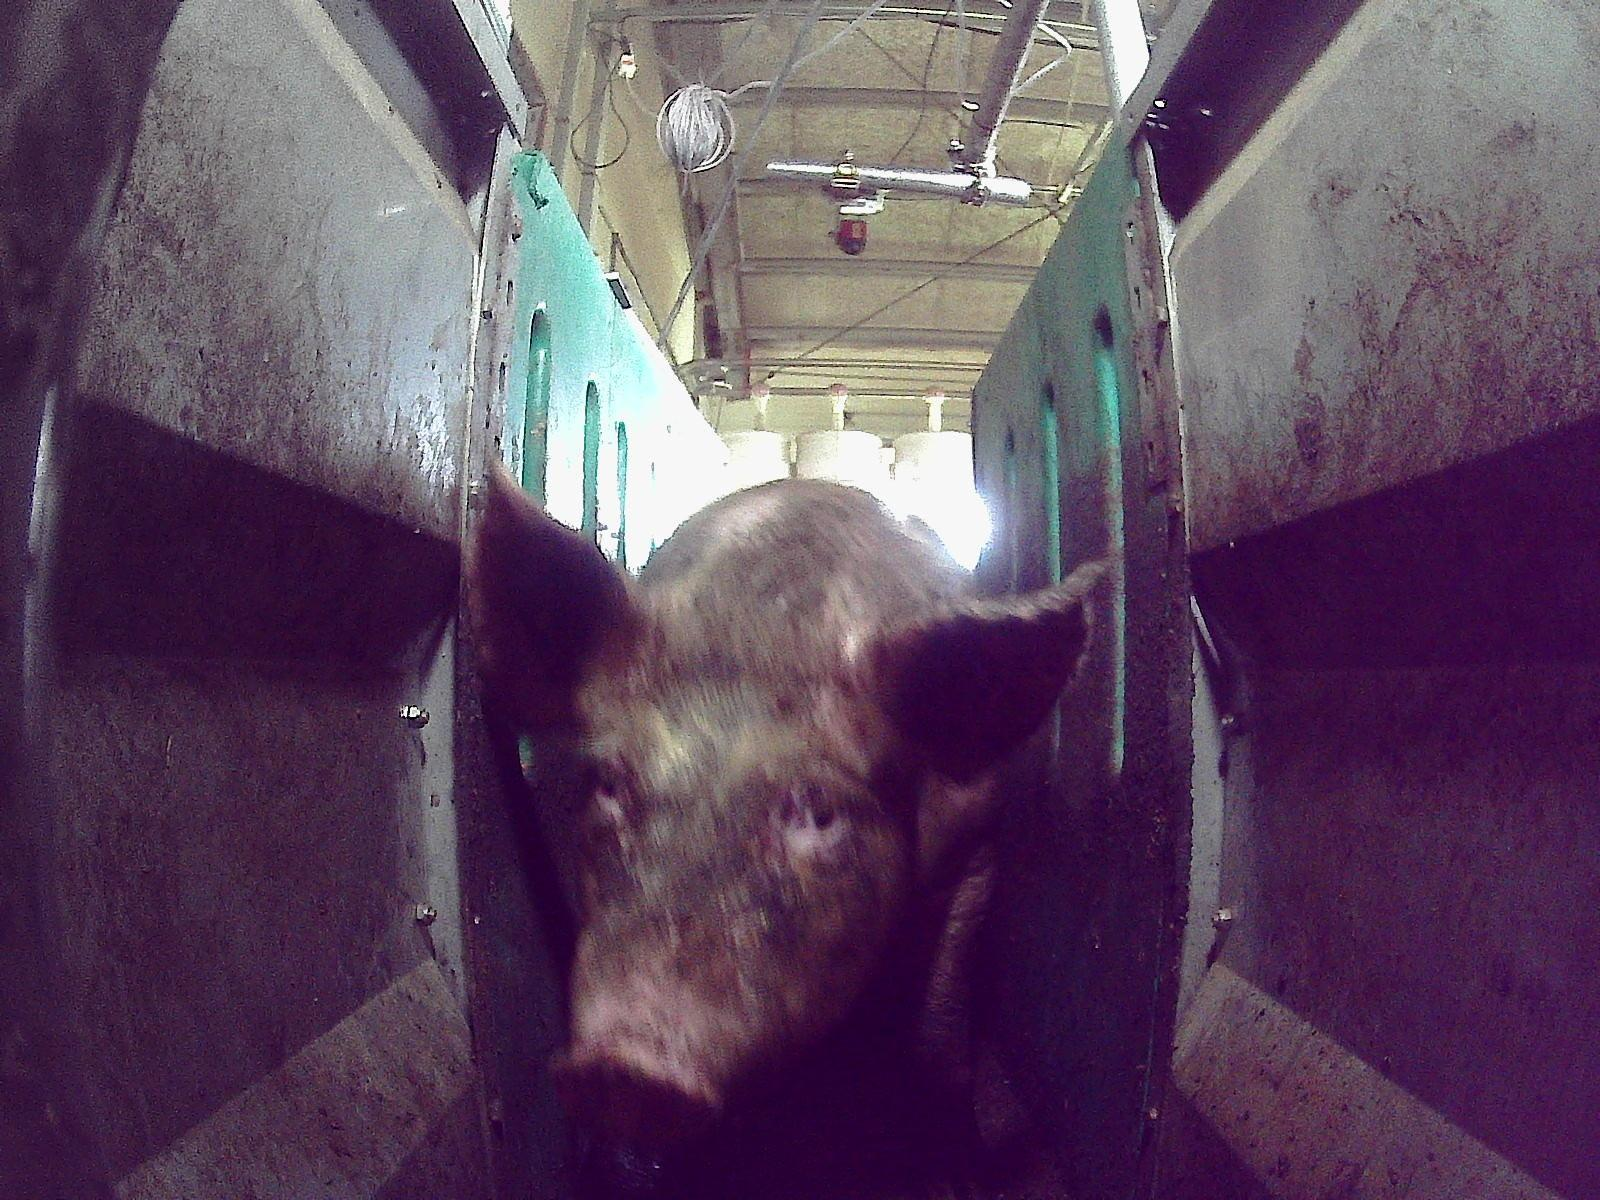Face: (549, 617, 892, 1138)
